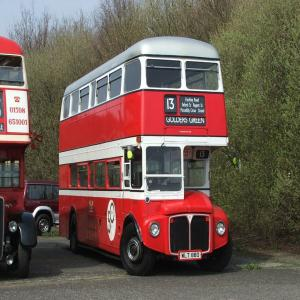Vehicle-registration-plate: (180, 253, 202, 261)
